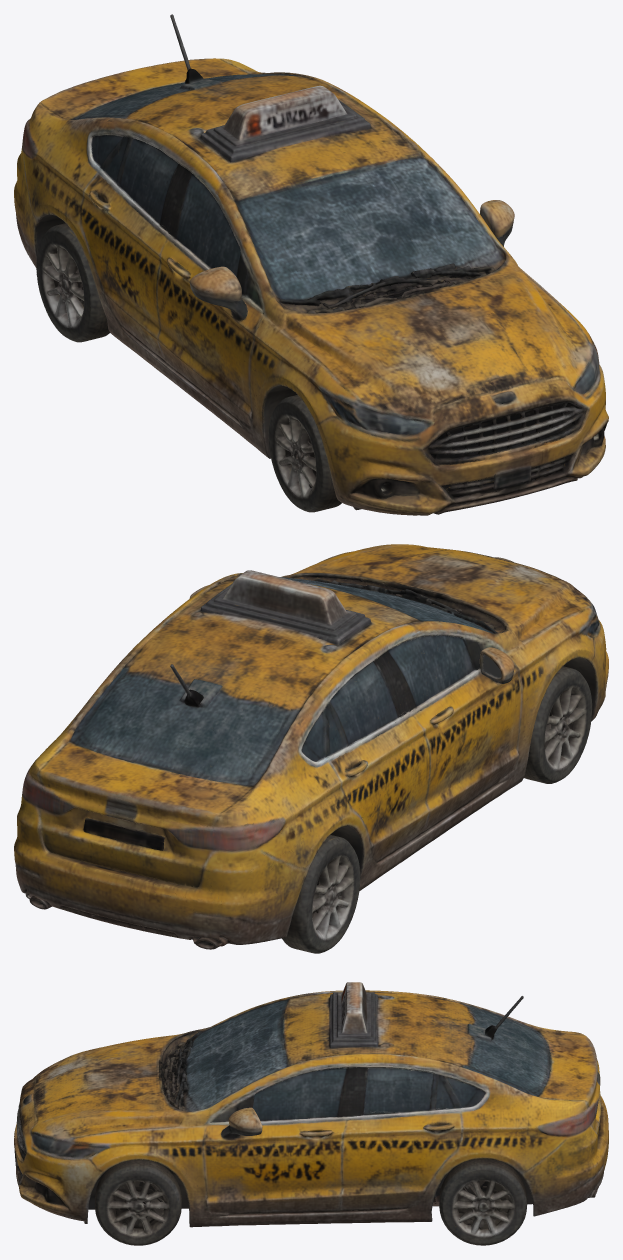
File: Taxi.glb
The picture shows the model from 3 angles, top to bottom: view 1: azimuth 30°, elevation 25°; view 2: azimuth 150°, elevation 25°; view 3: azimuth 270°, elevation 25°; orthographic projection. The views are drawn at different scales.
Parts seen in each view (by area): view 1: world; view 2: world; view 3: world.
Boxes of the visible parts, x1,y1,x2,y2 form: world: [14, 14, 608, 515]; world: [14, 544, 608, 953]; world: [14, 982, 608, 1245].
Bounding box in the file's own units: 0.4598 × 0.377 × 1.
1 material, 1 textured.
